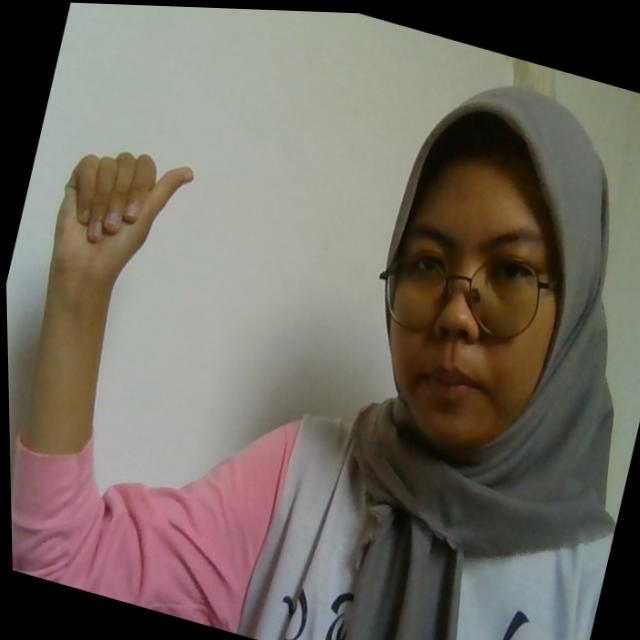A: (42, 132, 199, 297)
